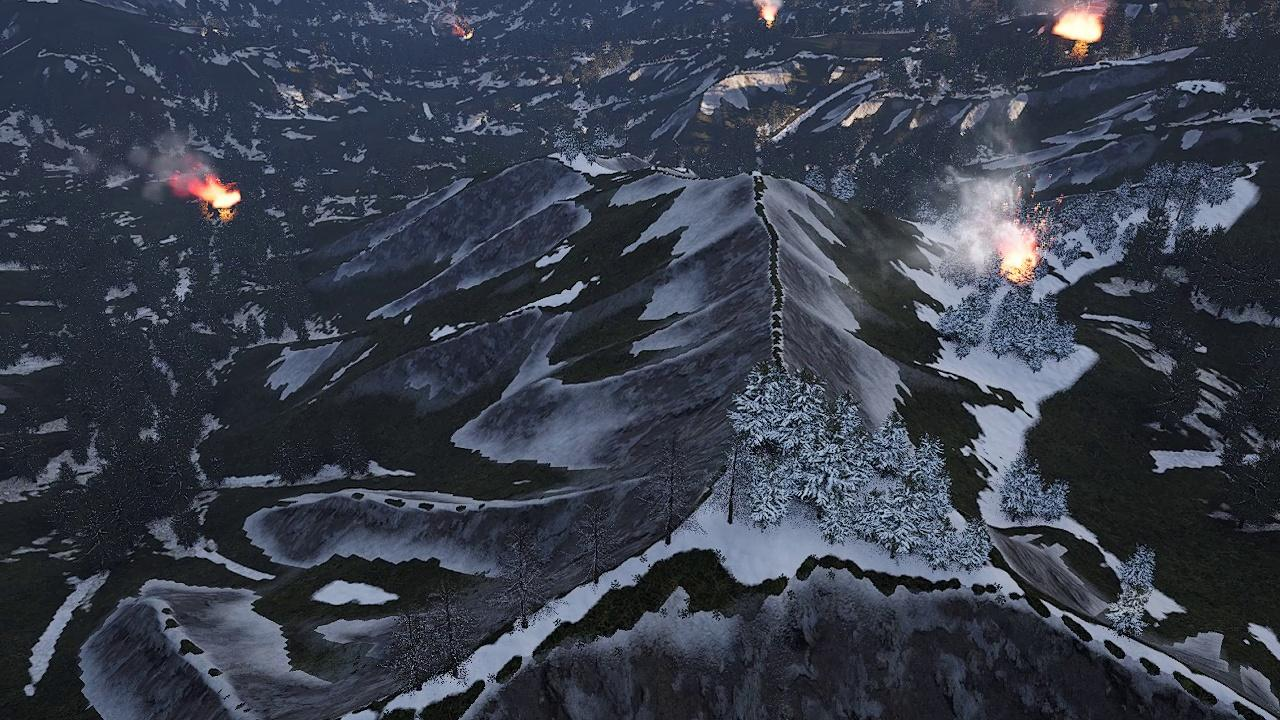fire: (1052, 10, 1102, 42), (998, 239, 1036, 279), (197, 180, 241, 213), (759, 0, 779, 25), (450, 21, 471, 41)
smoke: (869, 117, 1033, 277), (101, 129, 211, 203), (976, 0, 1088, 18)
